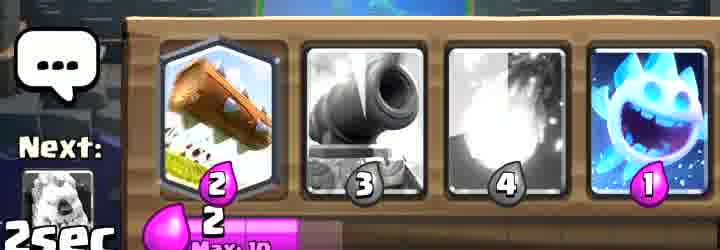cannon: (304, 57, 389, 177)
ice-spirit: (595, 45, 711, 200)
log: (162, 47, 268, 196)
